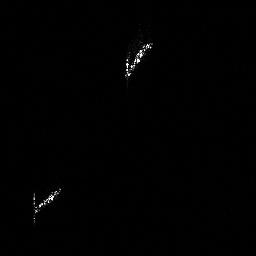ship: (27, 182, 65, 225), (118, 38, 155, 82)
